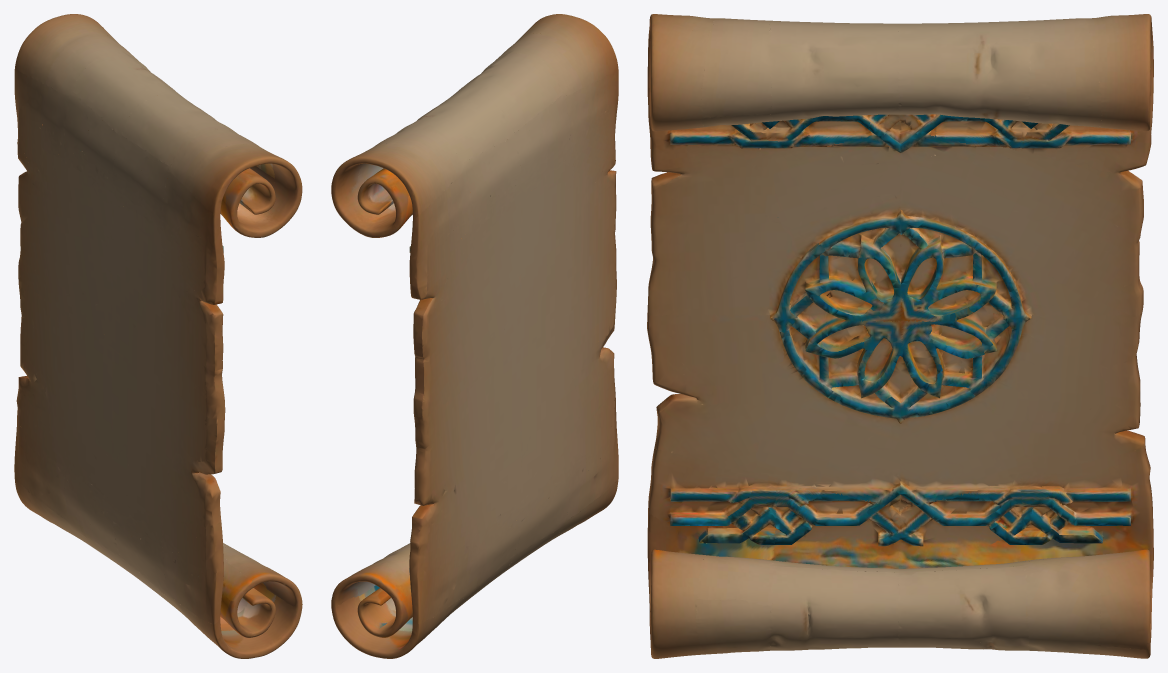
Rendered from 6. arabic parchment.glb.
3 renders of one model, left to right at view 1: azimuth 30°, elevation 25°; view 2: azimuth 150°, elevation 25°; view 3: azimuth 270°, elevation 25°, orthographic. The views are drawn at different scales.
Parts seen in each view (by area): view 1: tripo_node_22fd9492-6024-443b-a3b0-19f9fc37f67e; view 2: tripo_node_22fd9492-6024-443b-a3b0-19f9fc37f67e; view 3: tripo_node_22fd9492-6024-443b-a3b0-19f9fc37f67e.
Boxes of the visible parts, bbox=[...] form: tripo_node_22fd9492-6024-443b-a3b0-19f9fc37f67e: bbox=[14, 14, 302, 658]; tripo_node_22fd9492-6024-443b-a3b0-19f9fc37f67e: bbox=[331, 14, 618, 658]; tripo_node_22fd9492-6024-443b-a3b0-19f9fc37f67e: bbox=[647, 14, 1153, 658].
Size of the model in its own units: 0.1946 by 1 by 0.7295.
1 material, 1 textured.
